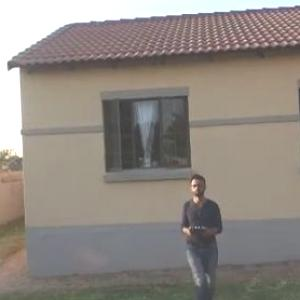follow: (170, 175, 226, 299)
